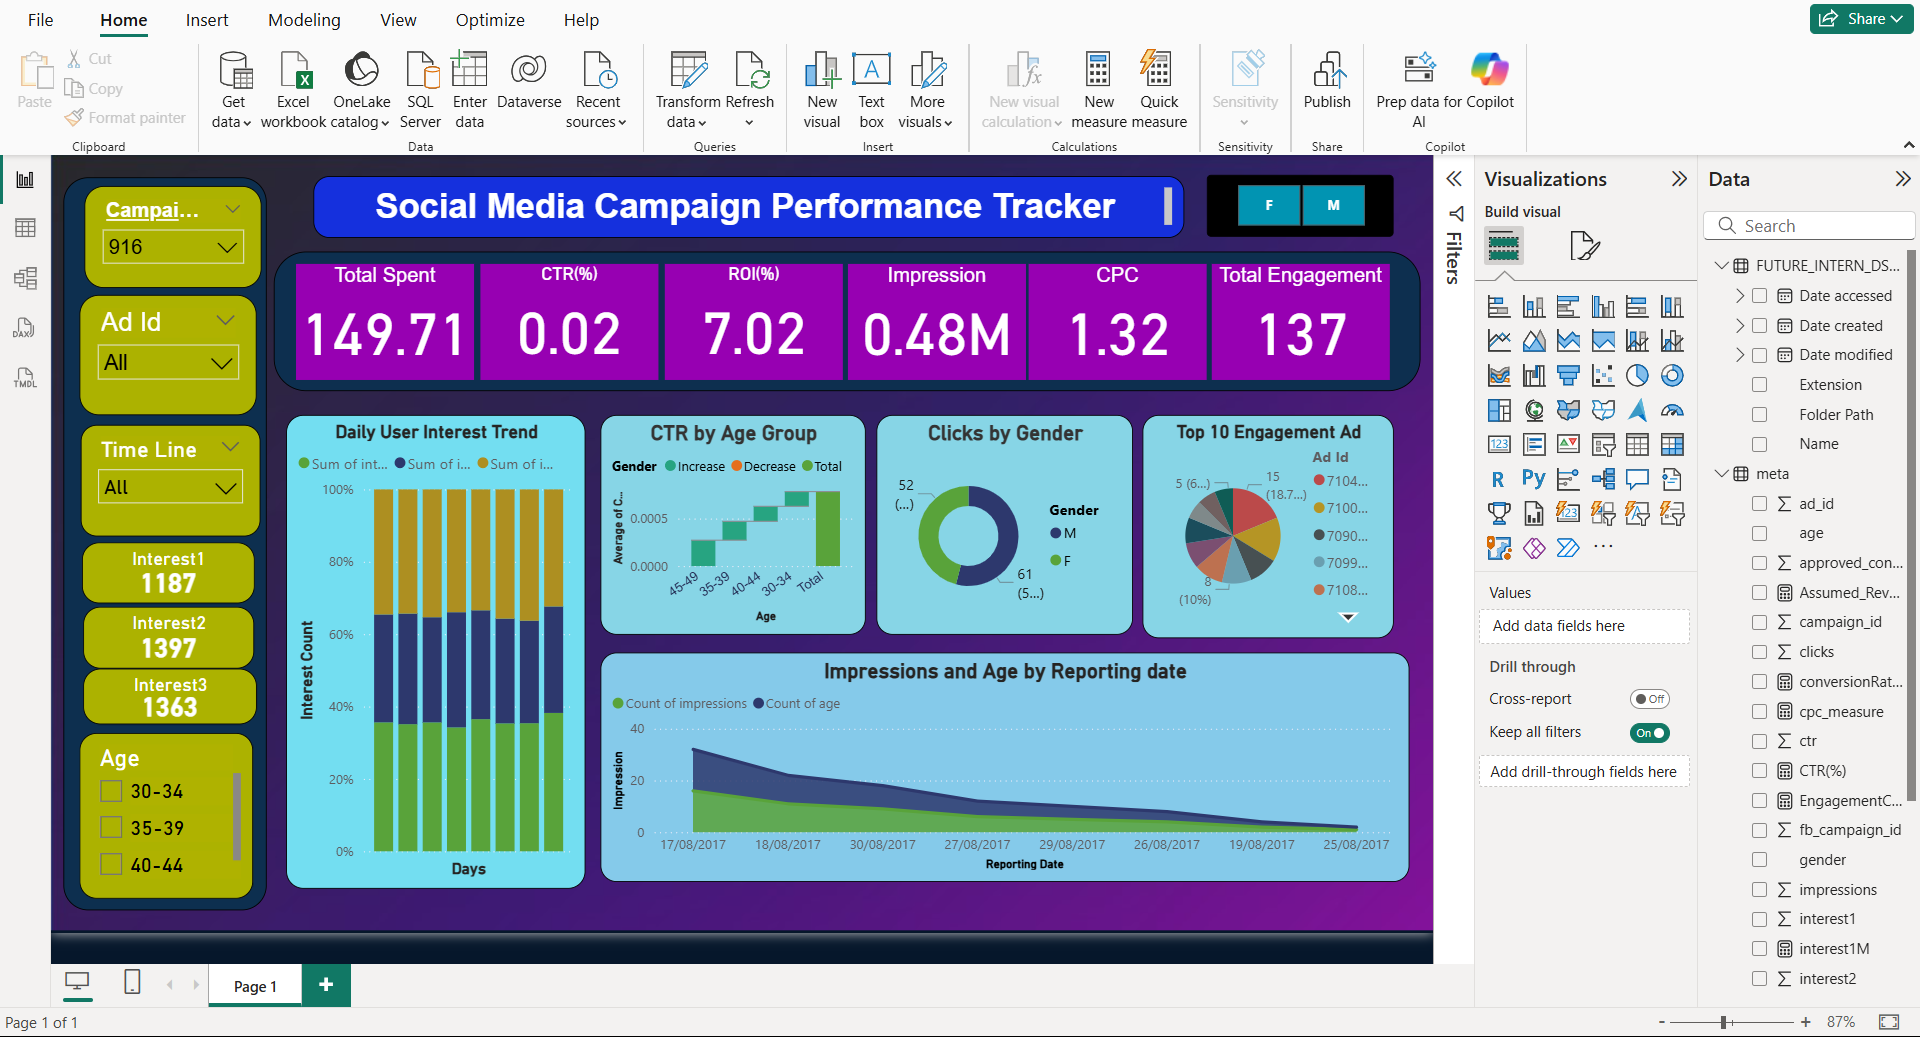

The page's visual inventory and layout, read from the dashboard file:
{"tool":"powerbi","page":{"name":"Page 1","canvas":[1280,720],"ordinal":0},"visuals":[{"type":"slicer","fields":{"Values":["meta.gender"]},"box":[1070,18.5,173,57.1],"z":0},{"type":"textbox","box":[242.4,19.1,806.7,57.3],"z":1000},{"type":"textbox","box":[206.6,89,1061.6,129.3],"z":2000},{"type":"kpi","title":"CTR(%)","fields":{"TrendLine":["meta.campaign_id"],"Indicator":["meta.CTR_measure"]},"box":[398.1,100.8,164.6,107.5],"z":3000},{"type":"kpi","title":"ROI(%)","fields":{"TrendLine":["meta.campaign_id"],"Indicator":["meta.ROI"]},"box":[567.8,100.8,164.6,107.5],"z":4000},{"type":"kpi","title":"Impression","fields":{"TrendLine":["meta.campaign_id"],"Indicator":["Sum(meta.impressions)"]},"box":[737.4,100.8,164.6,107.5],"z":5000},{"type":"kpi","title":"CPC","fields":{"TrendLine":["meta.campaign_id"],"Indicator":["meta.cpc_measure"]},"box":[905.4,100.8,164.6,107.5],"z":6000},{"type":"kpi","title":"Total Engagement","fields":{"TrendLine":["meta.campaign_id"],"Indicator":["meta.totalEngagment"]},"box":[1075.1,100.8,164.6,107.5],"z":7000},{"type":"kpi","title":"Total Spent","fields":{"TrendLine":["meta.campaign_id"],"Indicator":["Sum(meta.spent)"]},"box":[226.8,100.8,164.6,107.5],"z":8000},{"type":"textbox","box":[11.8,20.2,188.1,678.6],"z":9000},{"type":"slicer","fields":{"Values":["meta.campaign_id"]},"box":[30.5,28.7,164.3,94.3],"z":10000},{"type":"slicer","fields":{"Values":["meta.age"]},"box":[26,535.1,160.7,153.5],"z":11000},{"type":"slicer","fields":{"Values":["meta.ad_id"]},"box":[26,129.3,164.3,111.3],"z":12000},{"type":"slicer","fields":{"Values":["meta.reporting_start"]},"box":[26.9,249.6,166.1,103.2],"z":13000},{"type":"kpi","title":"Interest1","fields":{"TrendLine":["meta.campaign_id"],"Indicator":["meta.interest1M"]},"box":[28.7,359.1,159.8,56.6],"z":14000},{"type":"kpi","title":"Interest2","fields":{"TrendLine":["meta.campaign_id"],"Indicator":["meta.interest2M"]},"box":[29.6,418.4,158,57.5],"z":15000},{"type":"kpi","title":"Interest3","fields":{"TrendLine":["meta.campaign_id"],"Indicator":["meta.interest3M"]},"box":[29.6,475.8,160.7,52.1],"z":16000},{"type":"donutChart","title":"Clicks by Gender","fields":{"Category":["meta.gender"],"Y":["Sum(meta.clicks)"]},"box":[764.5,240.7,237.5,203.3],"z":18000},{"type":"hundredPercentStackedColumnChart","title":"Daily User Interest Trend","fields":{"Category":["meta.reporting_start"],"Y":["Sum(meta.interest2)","Sum(meta.interest1)","Sum(meta.interest3)"]},"box":[217.3,240.6,277.4,439],"z":19000},{"type":"waterfallChart","title":"CTR by Age Group","fields":{"Category":["meta.age"],"Y":["Avg(meta.ctr)"]},"box":[509.1,240.7,245.6,203.3],"z":20000},{"type":"stackedAreaChart","title":"Impressions and Age by Reporting date","fields":{"Category":["meta.reporting_end"],"Y":["CountNonNull(meta.impressions)","CountNonNull(meta.age)"]},"box":[509,460.5,748.7,212.8],"z":21000},{"type":"pieChart","title":"Top 10 Engagement  Ad","fields":{"Category":["meta.ad_id"],"Y":["meta.EngagementCount"]},"box":[1010.1,240.7,232.6,206.6],"z":22000}]}

Visuals, with their boxes on the page's 1280x720 design canvas (x1, y1, x2, y2). These are canvas units, not pixel positions in the 1920x1037 screenshot, which may show the page scaled, cropped or inside an application window:
slicer - meta.gender: 1070, 18, 1243, 76
textbox: 242, 19, 1049, 76
textbox: 207, 89, 1268, 218
"CTR(%)" kpi: 398, 101, 563, 208
"ROI(%)" kpi: 568, 101, 732, 208
"Impression" kpi: 737, 101, 902, 208
"CPC" kpi: 905, 101, 1070, 208
"Total Engagement" kpi: 1075, 101, 1240, 208
"Total Spent" kpi: 227, 101, 391, 208
textbox: 12, 20, 200, 699
slicer - meta.campaign_id: 30, 29, 195, 123
slicer - meta.age: 26, 535, 187, 689
slicer - meta.ad_id: 26, 129, 190, 241
slicer - meta.reporting_start: 27, 250, 193, 353
"Interest1" kpi: 29, 359, 188, 416
"Interest2" kpi: 30, 418, 188, 476
"Interest3" kpi: 30, 476, 190, 528
"Clicks by Gender" donutChart: 764, 241, 1002, 444
"Daily User Interest Trend" hundredPercentStackedColumnChart: 217, 241, 495, 680
"CTR by Age Group" waterfallChart: 509, 241, 755, 444
"Impressions and Age by Reporting date" stackedAreaChart: 509, 460, 1258, 673
"Top 10 Engagement  Ad" pieChart: 1010, 241, 1243, 447
